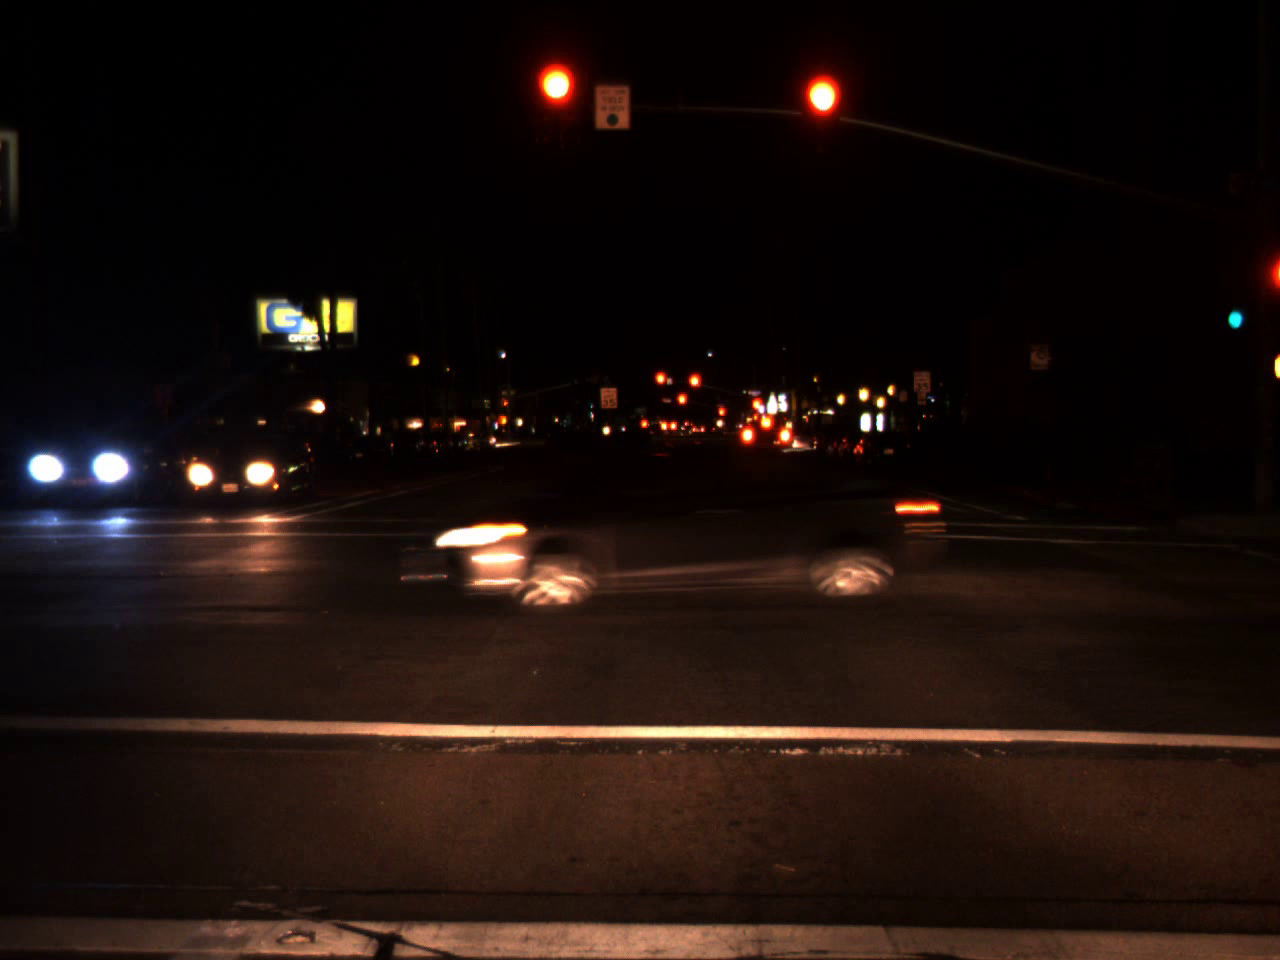stop: (537, 65, 577, 143), (802, 77, 841, 152), (686, 371, 702, 403), (653, 370, 668, 399), (749, 396, 764, 412), (717, 406, 726, 427), (677, 394, 686, 407), (502, 401, 508, 411)
